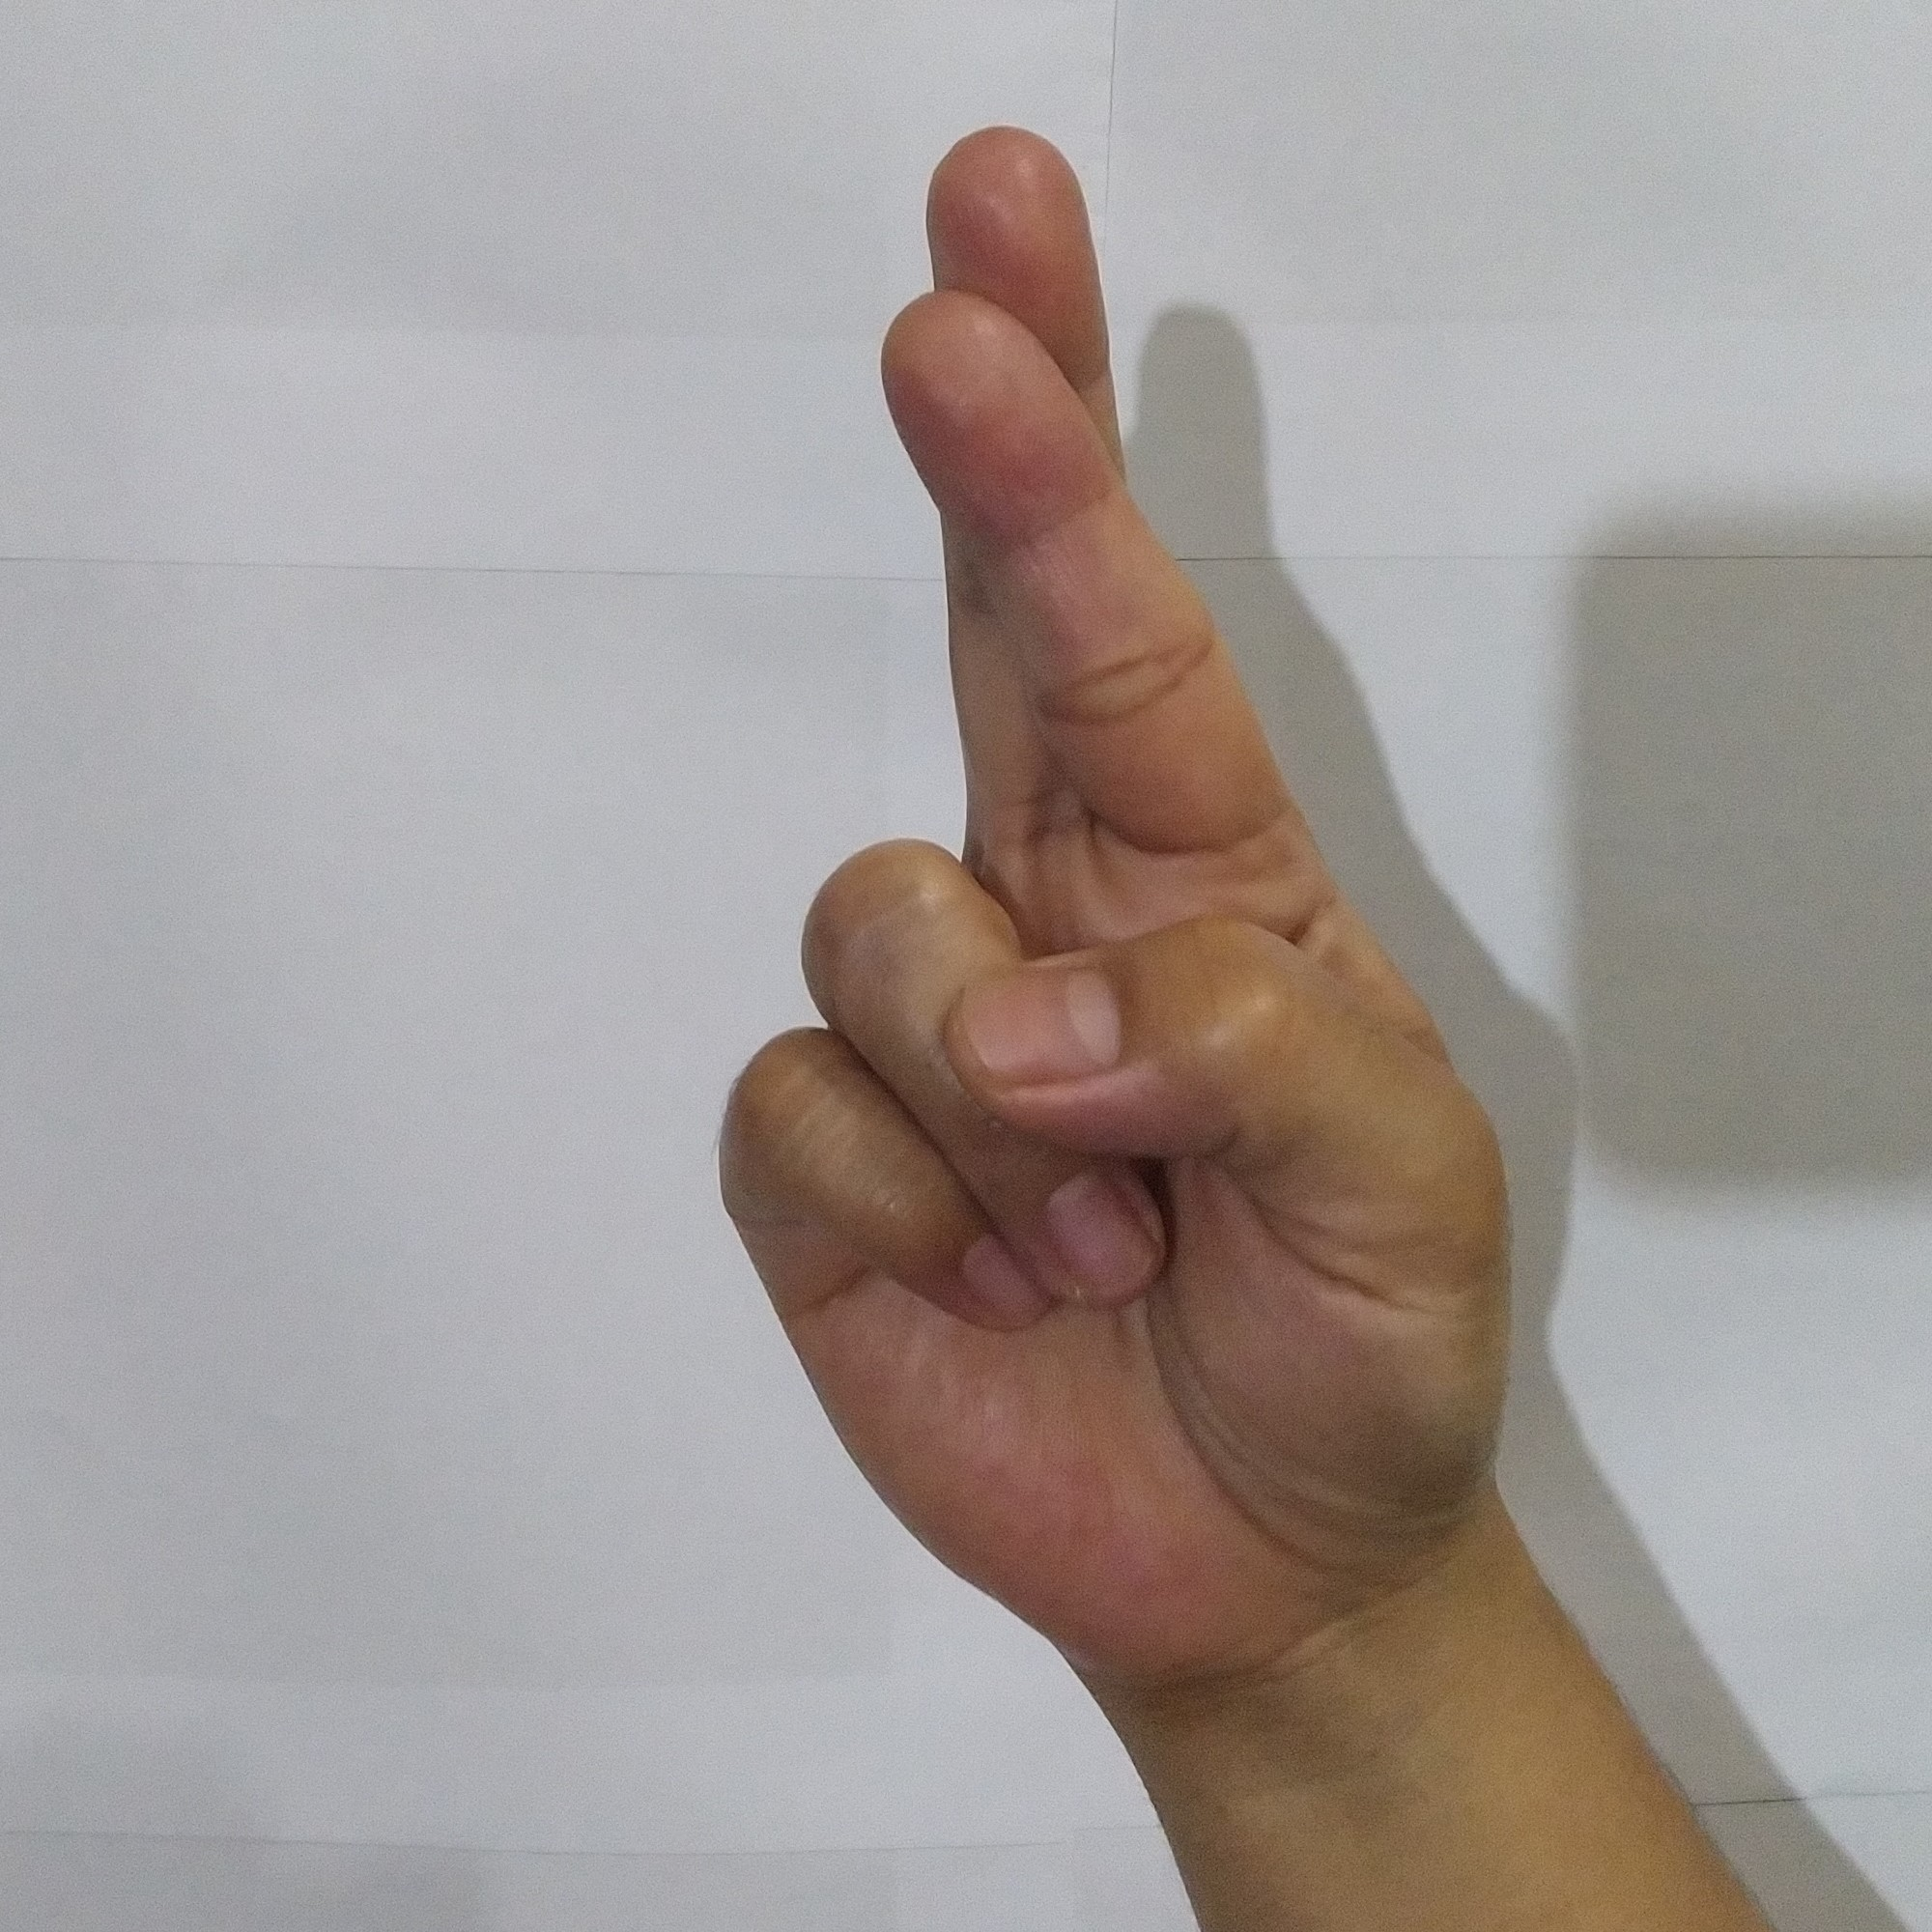R: (681, 92, 1545, 1700)
